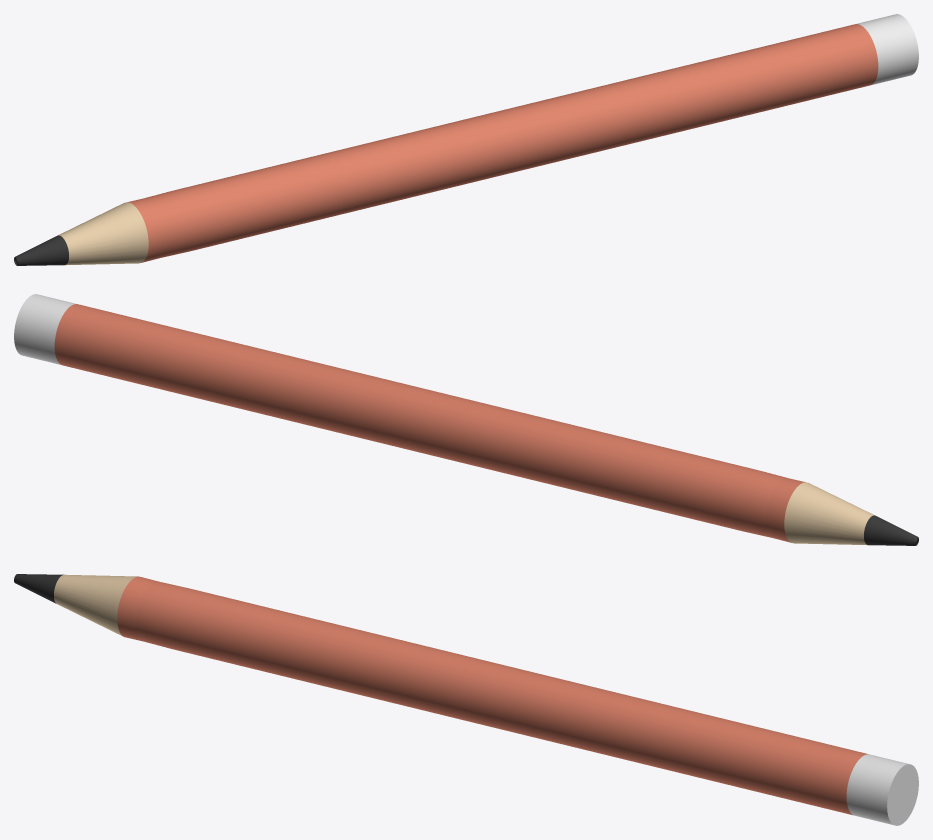
Rendered from Kalem.fbx.
The picture shows the model from 3 angles, top to bottom: view 1: azimuth 30°, elevation 25°; view 2: azimuth 150°, elevation 25°; view 3: azimuth 330°, elevation 25°; orthographic projection.
Parts seen in each view (by area): view 1: Cylinder; view 2: Cylinder; view 3: Cylinder.
Boxes of the visible parts, left/top/right/bottom form: Cylinder: left=14, top=14, right=918, bottom=265; Cylinder: left=14, top=294, right=918, bottom=545; Cylinder: left=14, top=574, right=918, bottom=825.
Size of the model in its own units: 64.42 by 3.98 by 4.01.
